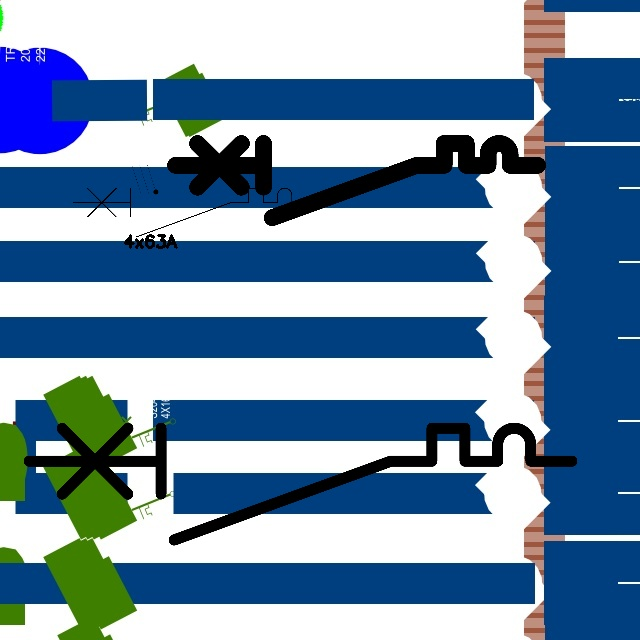interruptor_termomagnetico: (15, 414, 586, 554), (166, 134, 547, 227), (67, 182, 316, 243)
